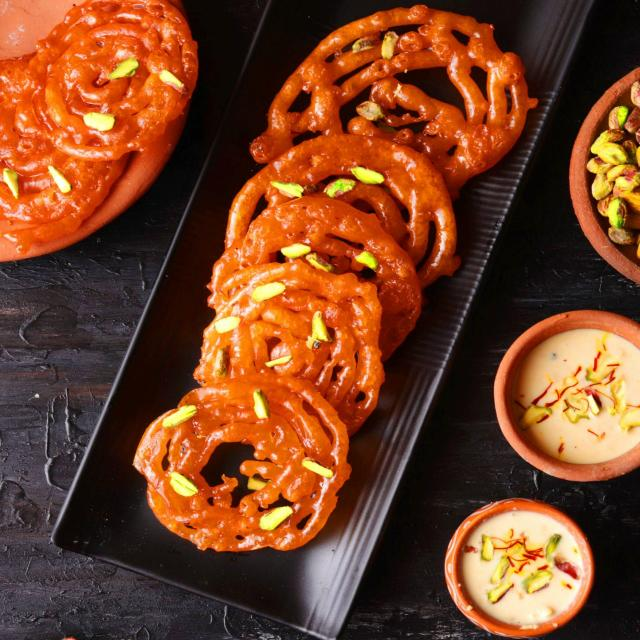jalebi: (172, 19, 456, 522), (3, 9, 196, 232)
